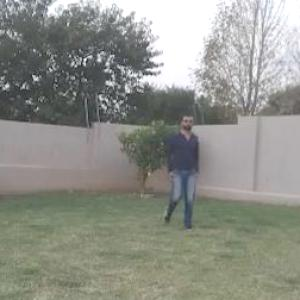follow: (164, 111, 204, 233)
